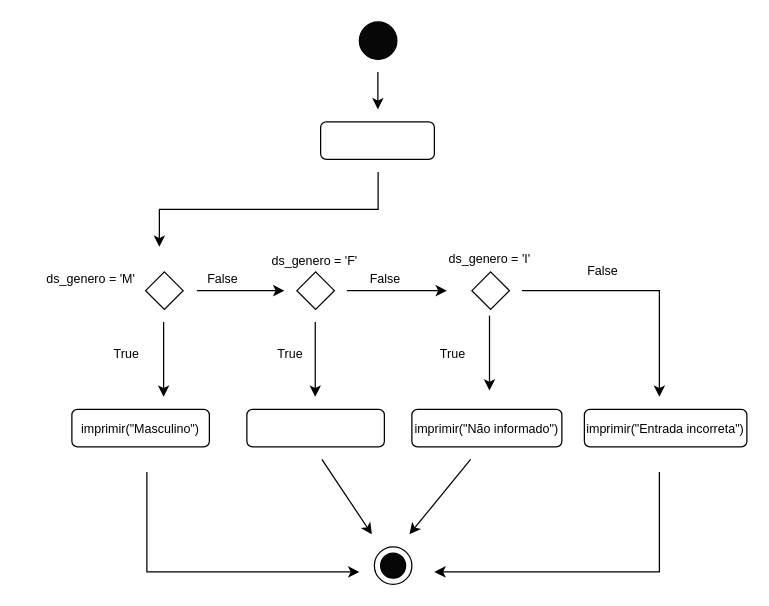
The diagram is 769 pixels wide and 606 high, and some of its shapes have lost their labels. The centre of each missing label's shape, as x and y in pixels:
imprimir("Feminino"): (315,427)
ler(ds_genero): (376,140)
